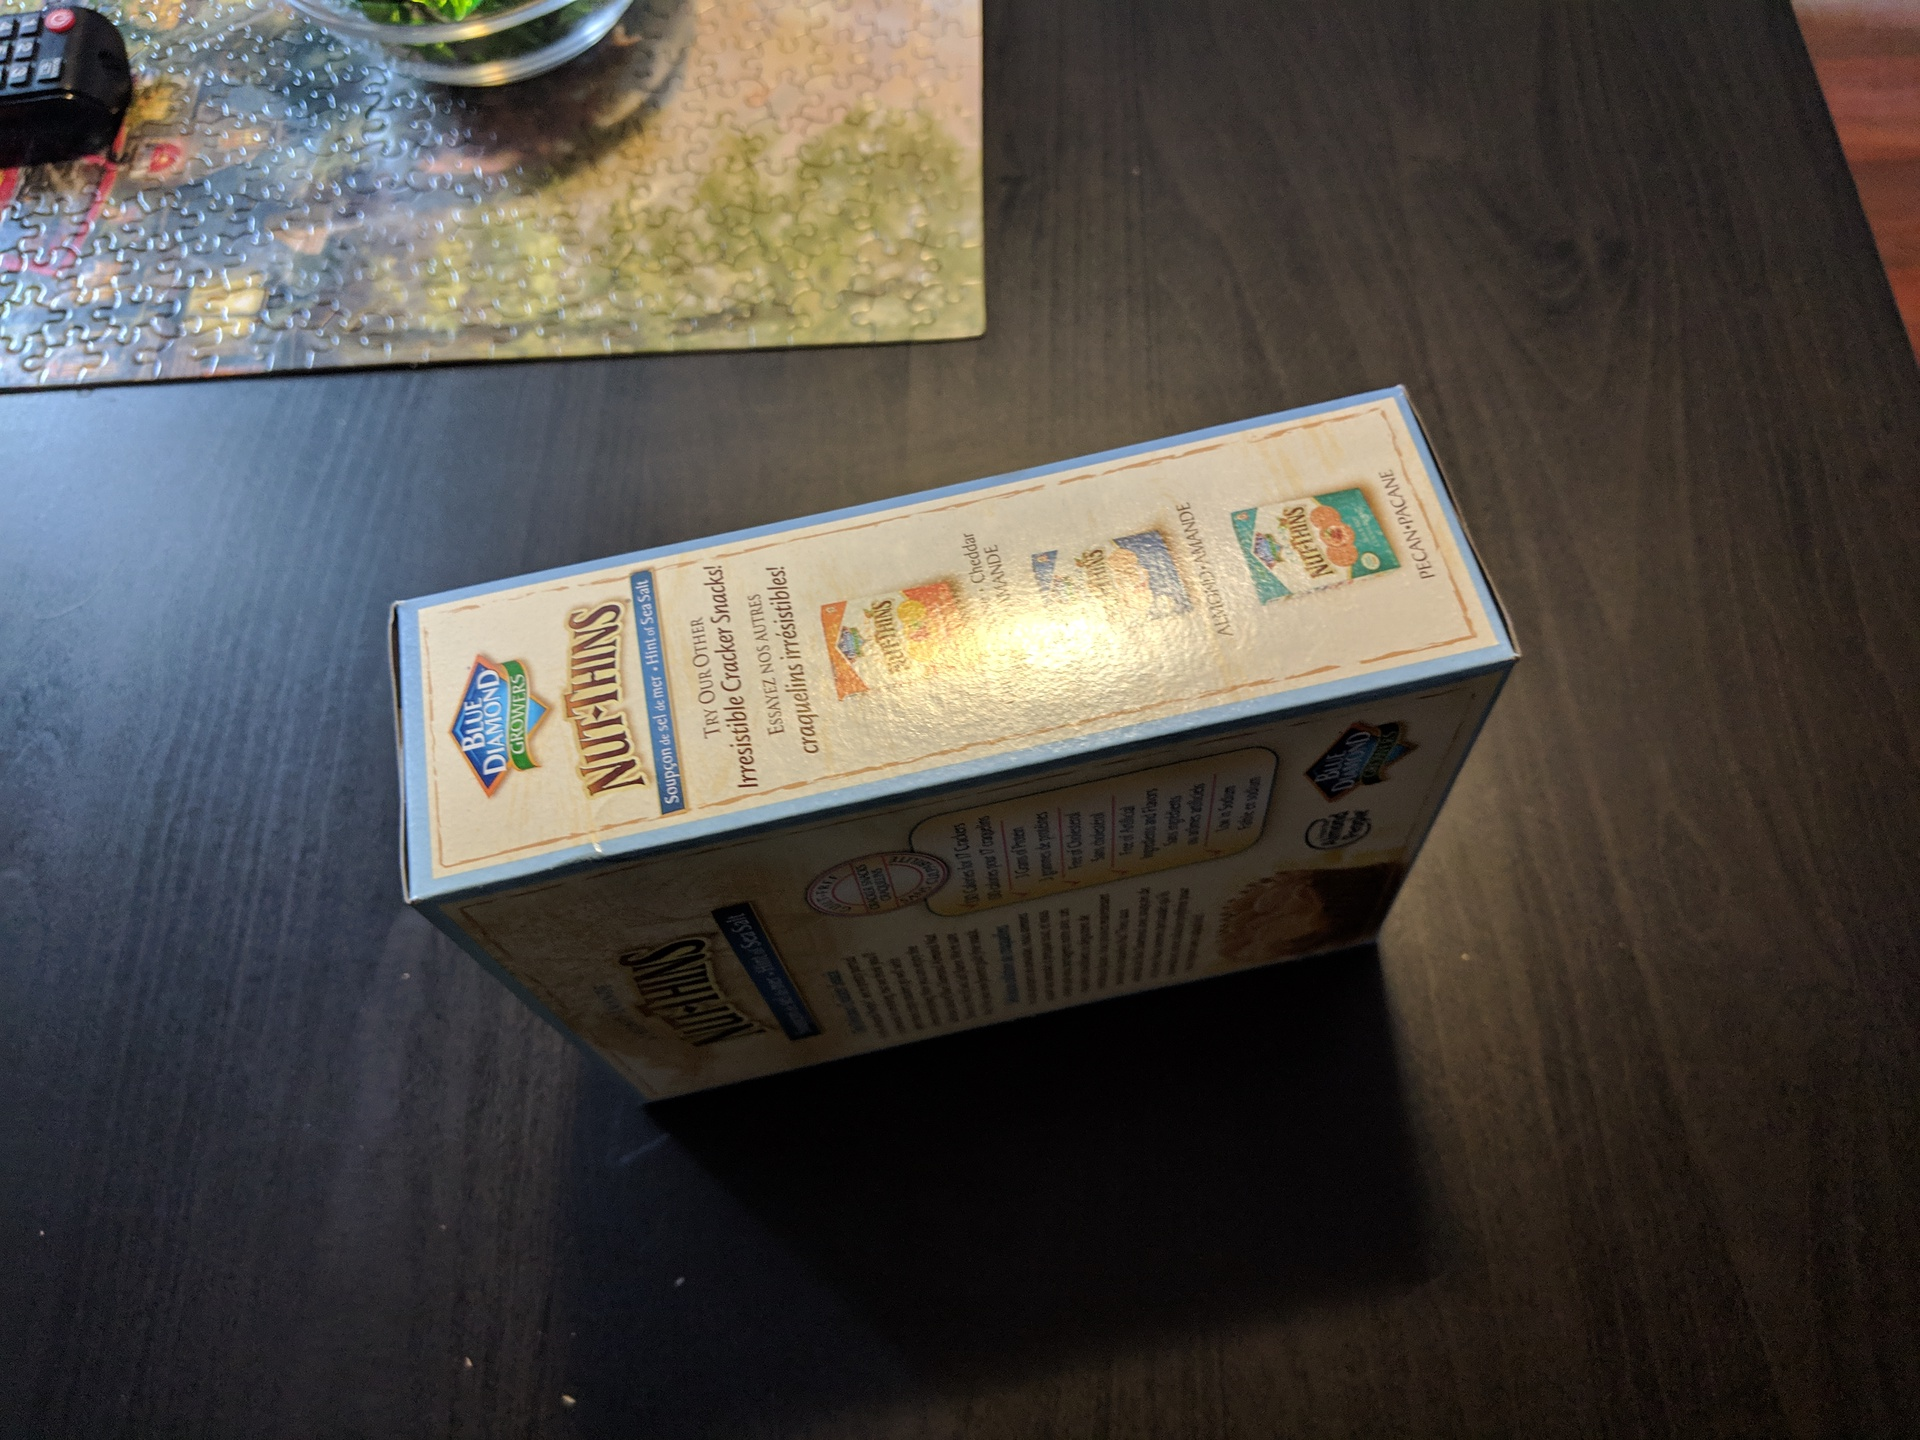blue_diamond_nut_thins_almond_seasalt: (407, 422, 1450, 1103)
